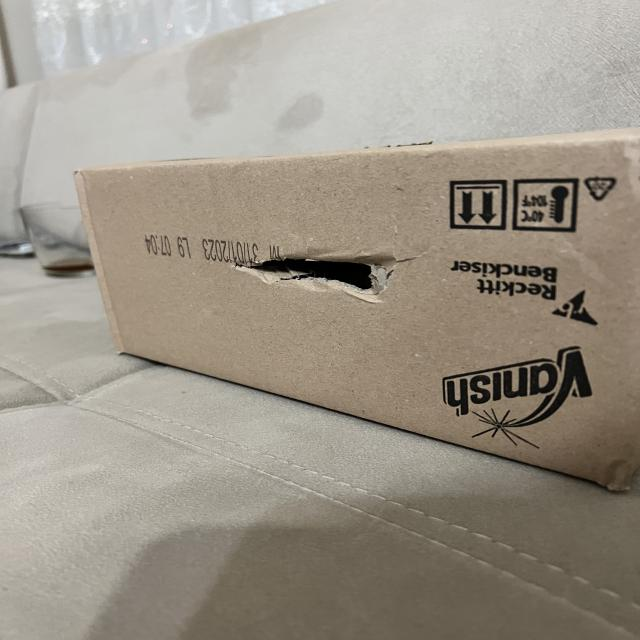damaged: (68, 127, 633, 471), (208, 243, 434, 311)
